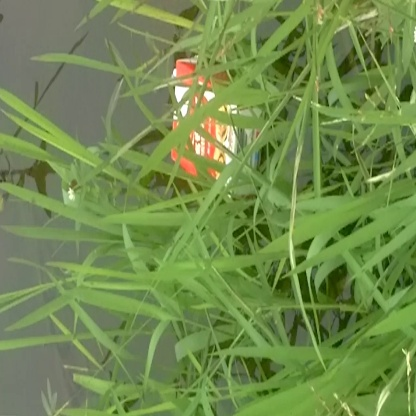milk-box: (160, 50, 282, 200)
